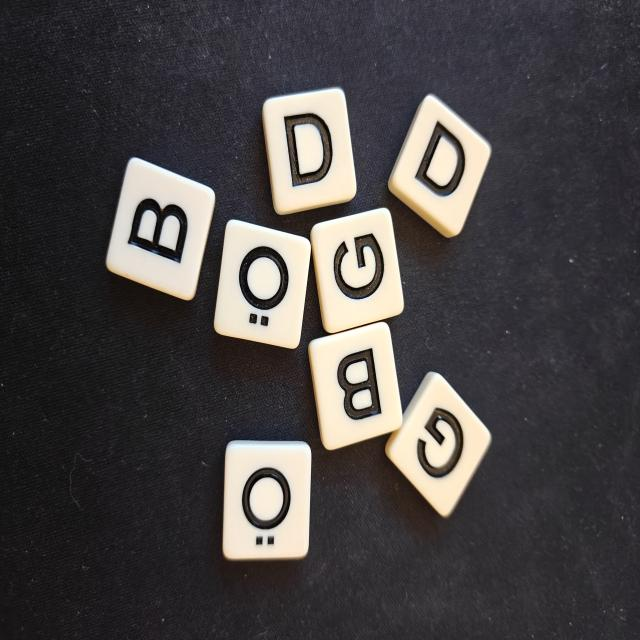b: (106, 158, 215, 300), (308, 322, 402, 449)
d: (388, 94, 491, 237), (262, 88, 356, 214)
g: (385, 372, 491, 516), (311, 208, 403, 333)
o_dot: (214, 220, 311, 348), (222, 440, 311, 560)
